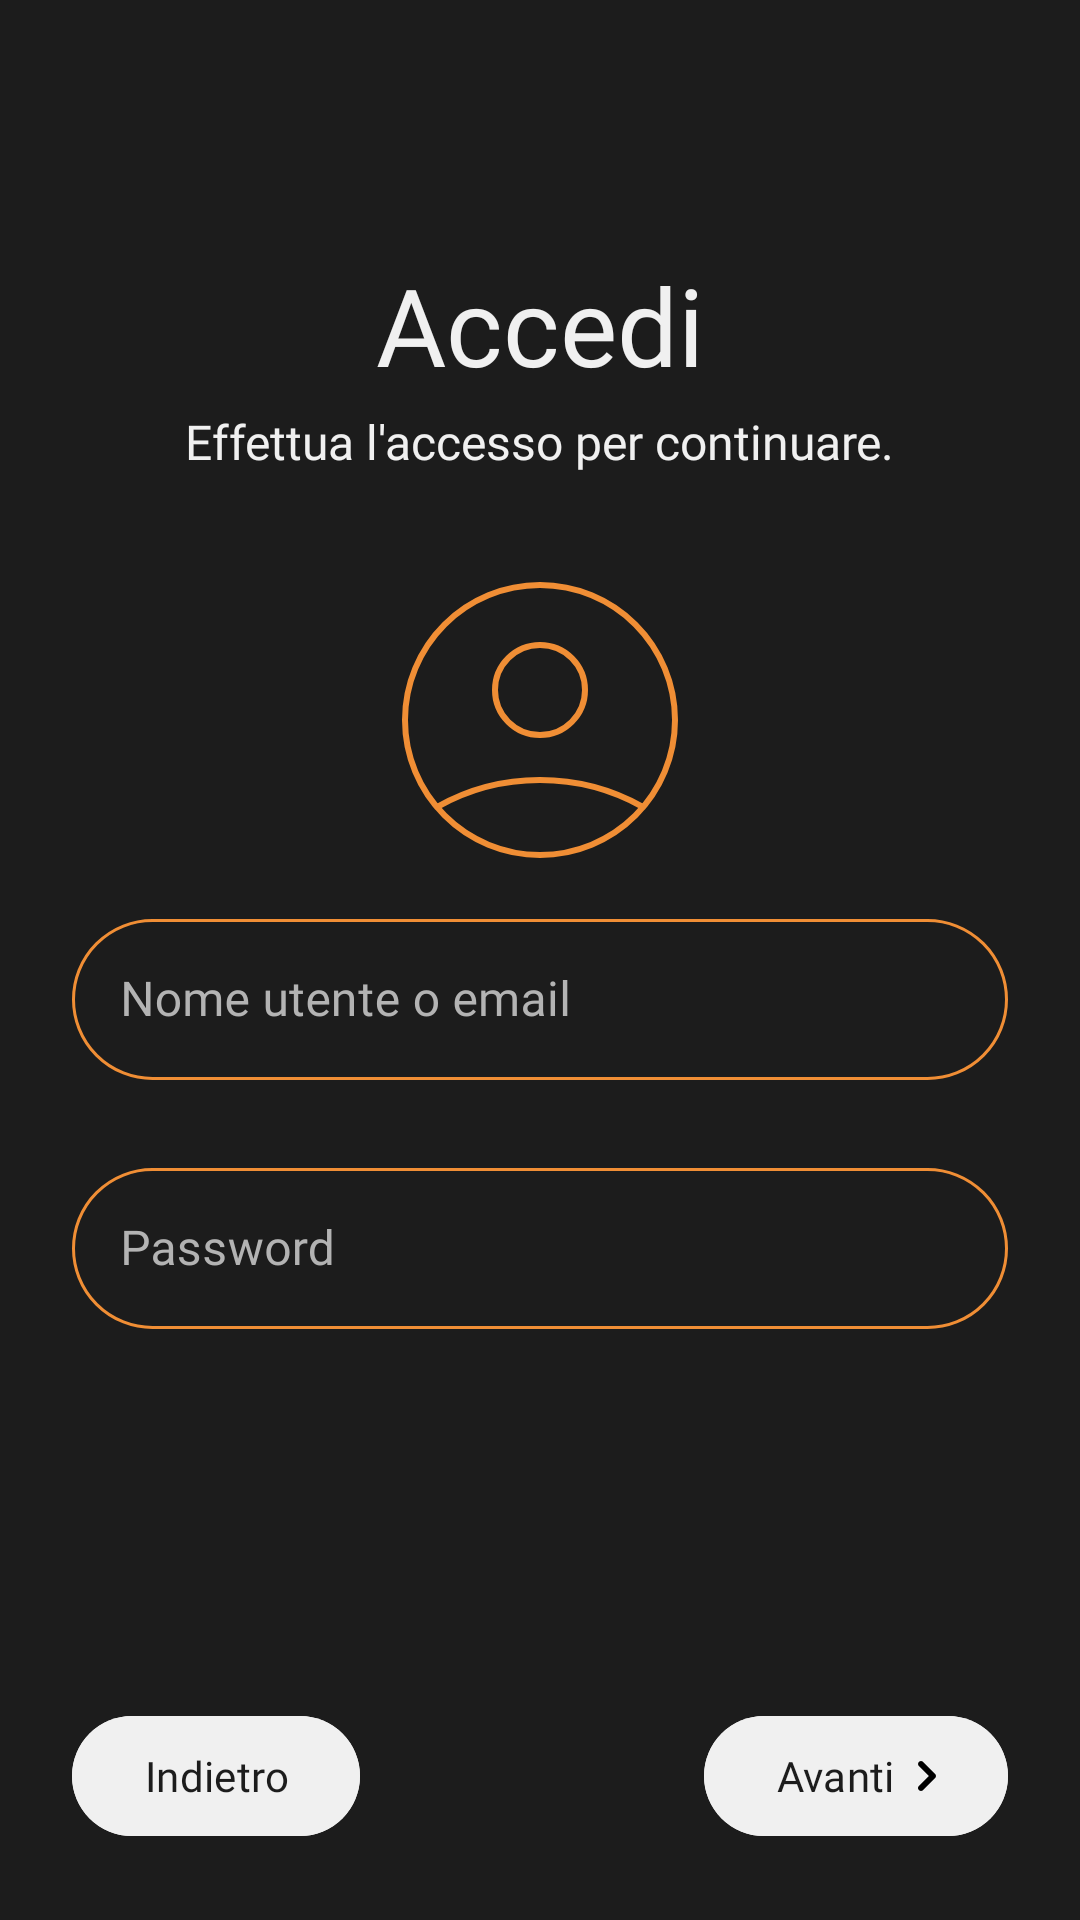

Icon bounding boxes for this 1080 × 1920 phone screenshot, format (x1, y1, x2, y2):
Icona utente: (402, 582, 678, 858)
